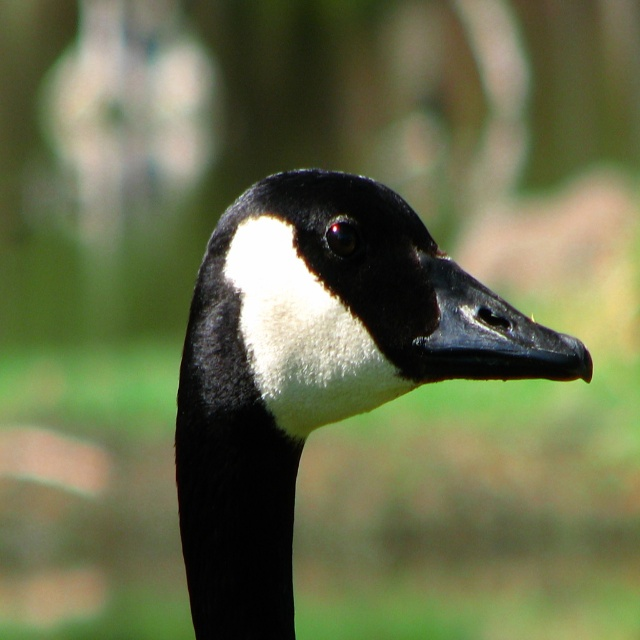Duck: (156, 174, 617, 606)
